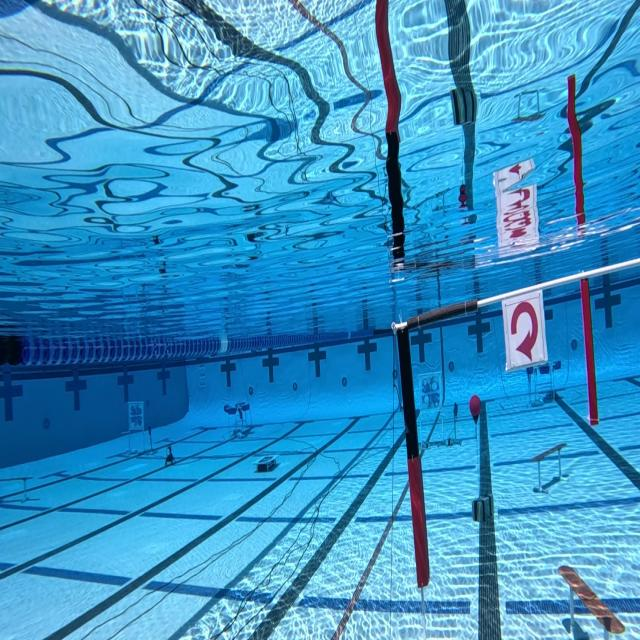red_side: (496, 283, 557, 383)
